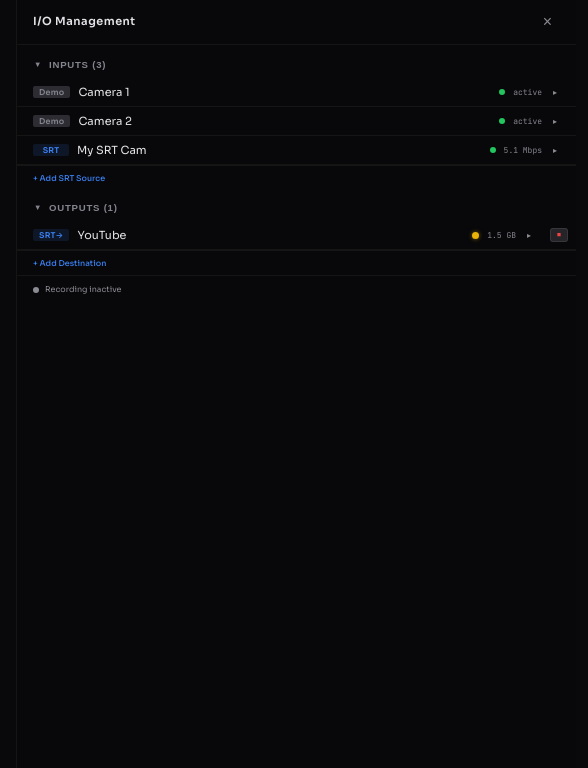
Test: IOPanel › collapses sections when header clicked
This screenshot has width=588, height=768.
Click the button with class "section-header" showing "▾ INPUTS (3)" at (78, 64), box [17, 53, 576, 76]
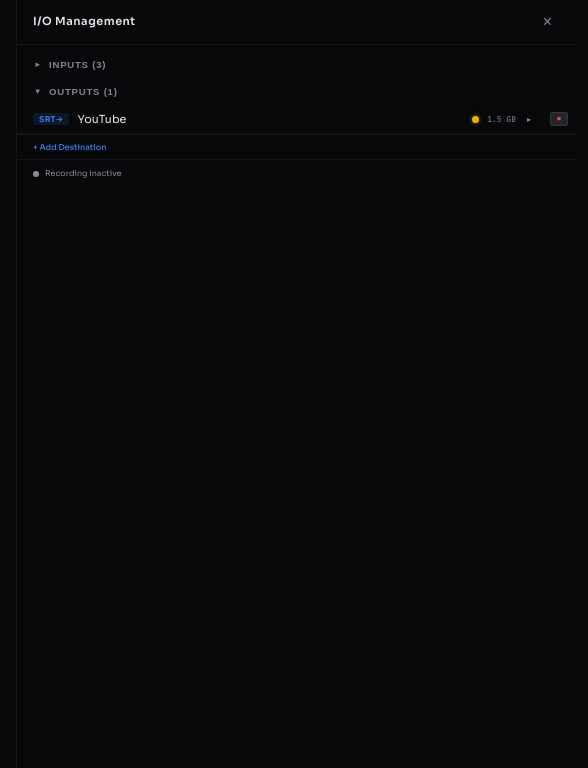
Now no elements with class "source-row" are shown
